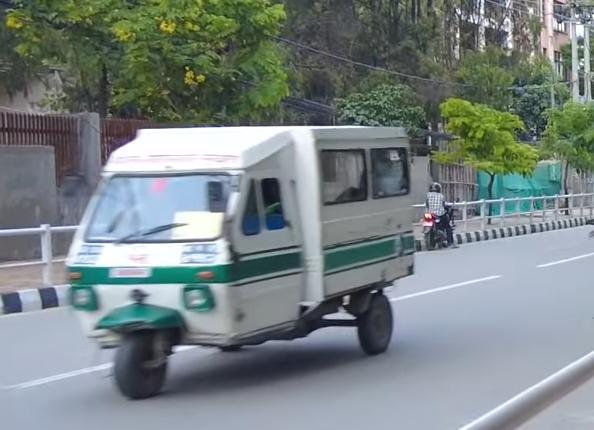tempo: (70, 115, 429, 402)
